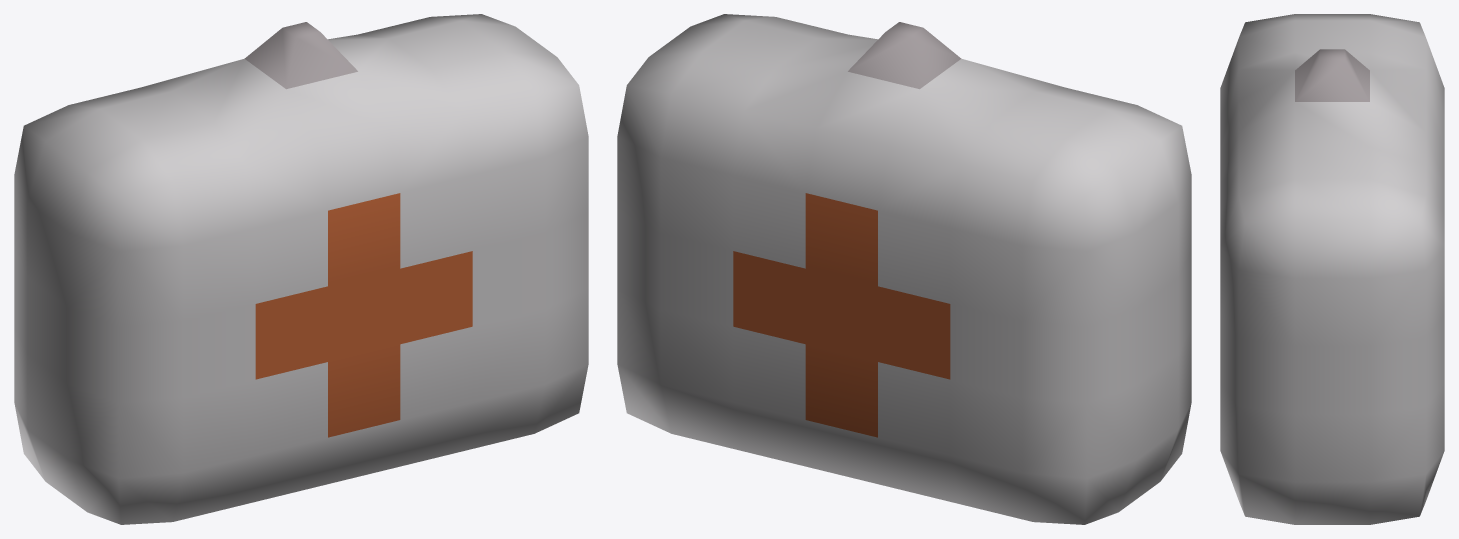
The picture shows the model from 3 angles, left to right: view 1: azimuth 30°, elevation 25°; view 2: azimuth 150°, elevation 25°; view 3: azimuth 270°, elevation 25°; orthographic projection. The views are drawn at different scales.
Bounding box in the file's own units: 0.35 × 0.2833 × 0.15.
